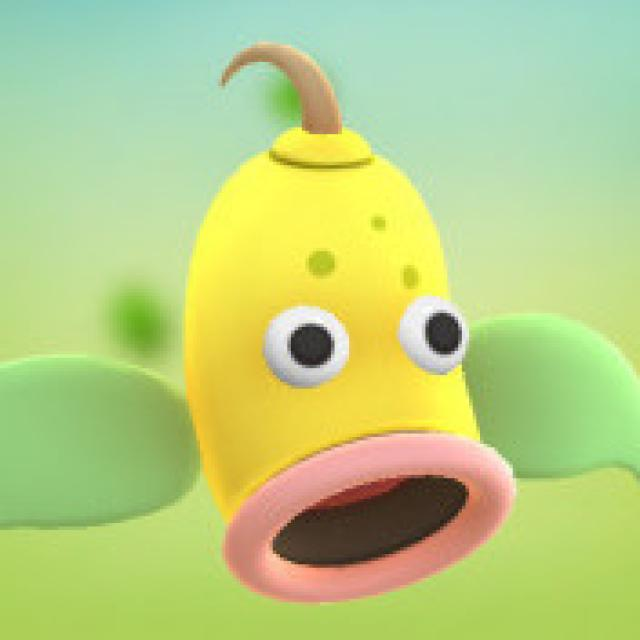Weepinbell: (172, 50, 534, 607)
